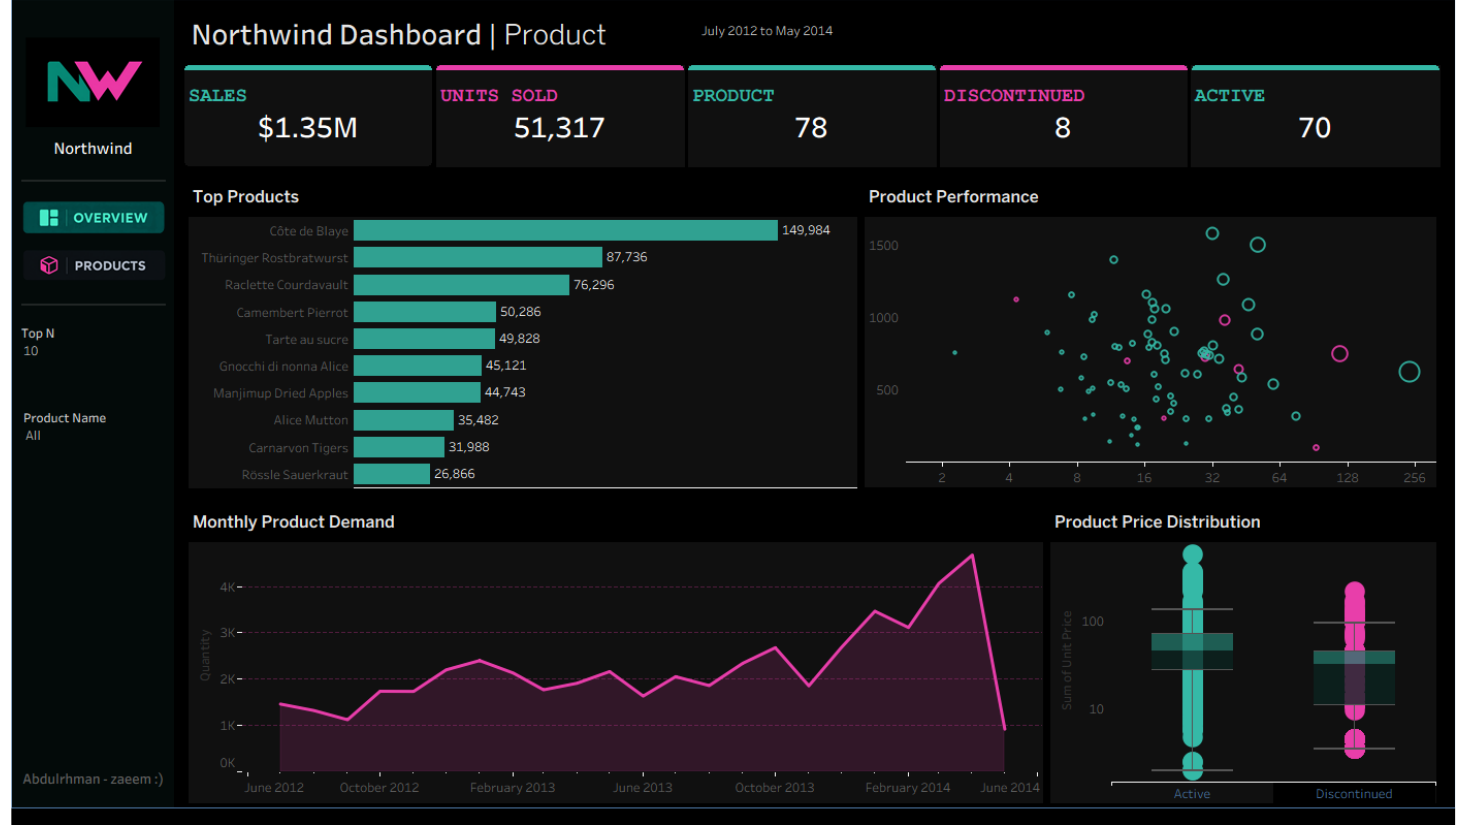

Layout of this report page (visuals, bound fields, positions):
{"tool":"tableau","page":{"name":"Product Analysis","canvas":[1400,800],"ordinal":1},"visuals":[{"type":"blank","box":[168,1,1216,10]},{"type":"text","box":[168,11,640,45]},{"type":"blank","box":[808,11,576,45]},{"type":"filter","title":"Monthly Product Demand","param":"[federated.13eqwf01oscyyw1924quf17f3vqo].[tmn:OrderDate:qk]","box":[666,22,725,25]},{"type":"image","param":"Image/Neon Teal and Magenta NW Logo.png","box":[1,33,157,95]},{"type":"worksheet","title":"TOTAL SALES","mark":"Automatic","box":[168,64,240,98]},{"type":"blank","box":[168,64,240,5]},{"type":"worksheet","title":"UNITS SOLD (2)","mark":"Automatic","box":[412,64,240,98]},{"type":"blank","box":[412,64,240,5]},{"type":"worksheet","title":"PRODUCT","mark":"Automatic","box":[656,64,240,98]},{"type":"blank","box":[656,64,240,5]},{"type":"worksheet","title":"ACTIVE (2)","mark":"Automatic","box":[900,64,239,98]},{"type":"blank","box":[900,64,240,5]},{"type":"worksheet","title":"ACTIVE","mark":"Automatic","box":[1143,64,241,98]},{"type":"blank","box":[1144,64,240,5]},{"type":"text","box":[1,128,157,32]},{"type":"blank","box":[1,160,157,582]},{"type":"worksheet","title":"Top product","mark":"Automatic","rows":["ProductName"],"cols":["Calculation_2169672297005056"],"box":[168,172,655,305]},{"type":"worksheet","title":"Product Performance","mark":"Automatic","rows":["Quantity"],"cols":["Calculation_1637234013003778"],"box":[823,172,561,305]},{"type":"blank","box":[10,175,140,2]},{"type":"dashboard-object","box":[10,195,139,33]},{"type":"dashboard-object","box":[10,242,140,33]},{"type":"blank","box":[10,295,140,2]},{"type":"parameter","param":"[Parameters].[Parameter 0752676996694016]","box":[10,314,138,75]},{"type":"filter","title":"Top product","param":"[federated.13eqwf01oscyyw1924quf17f3vqo].[none:ProductName:nk]","box":[12,396,132,49]},{"type":"worksheet","title":"Monthly Product Demand","mark":"Line","rows":["Quantity","Quantity"],"cols":["OrderDate"],"box":[168,487,835,296]},{"type":"worksheet","title":"Product Price Distribution","mark":"Circle","rows":["UnitPrice"],"cols":["Calculation_2169672297103362"],"box":[1003,487,381,296]},{"type":"text","box":[1,742,157,26]},{"type":"blank","box":[1,768,157,15]}]}

Visuals, with their boxes on the page's 1400x800 design canvas (x1, y1, x2, y2). These are canvas units, not pixel positions in the 1467x825 screenshot, which may show the page scaled, cropped or inside an application window:
blank: x1=168 y1=1 x2=1384 y2=11
text: x1=168 y1=11 x2=808 y2=56
blank: x1=808 y1=11 x2=1384 y2=56
"Monthly Product Demand" filter: x1=666 y1=22 x2=1391 y2=47
image: x1=1 y1=33 x2=158 y2=128
"TOTAL SALES" worksheet: x1=168 y1=64 x2=408 y2=162
blank: x1=168 y1=64 x2=408 y2=69
"UNITS SOLD (2)" worksheet: x1=412 y1=64 x2=652 y2=162
blank: x1=412 y1=64 x2=652 y2=69
"PRODUCT" worksheet: x1=656 y1=64 x2=896 y2=162
blank: x1=656 y1=64 x2=896 y2=69
"ACTIVE (2)" worksheet: x1=900 y1=64 x2=1139 y2=162
blank: x1=900 y1=64 x2=1140 y2=69
"ACTIVE" worksheet: x1=1143 y1=64 x2=1384 y2=162
blank: x1=1144 y1=64 x2=1384 y2=69
text: x1=1 y1=128 x2=158 y2=160
blank: x1=1 y1=160 x2=158 y2=742
"Top product" worksheet: x1=168 y1=172 x2=823 y2=477
"Product Performance" worksheet: x1=823 y1=172 x2=1384 y2=477
blank: x1=10 y1=175 x2=150 y2=177
dashboard-object: x1=10 y1=195 x2=149 y2=228
dashboard-object: x1=10 y1=242 x2=150 y2=275
blank: x1=10 y1=295 x2=150 y2=297
parameter: x1=10 y1=314 x2=148 y2=389
"Top product" filter: x1=12 y1=396 x2=144 y2=445
"Monthly Product Demand" worksheet (Line marks): x1=168 y1=487 x2=1003 y2=783
"Product Price Distribution" worksheet (Circle marks): x1=1003 y1=487 x2=1384 y2=783
text: x1=1 y1=742 x2=158 y2=768
blank: x1=1 y1=768 x2=158 y2=783
